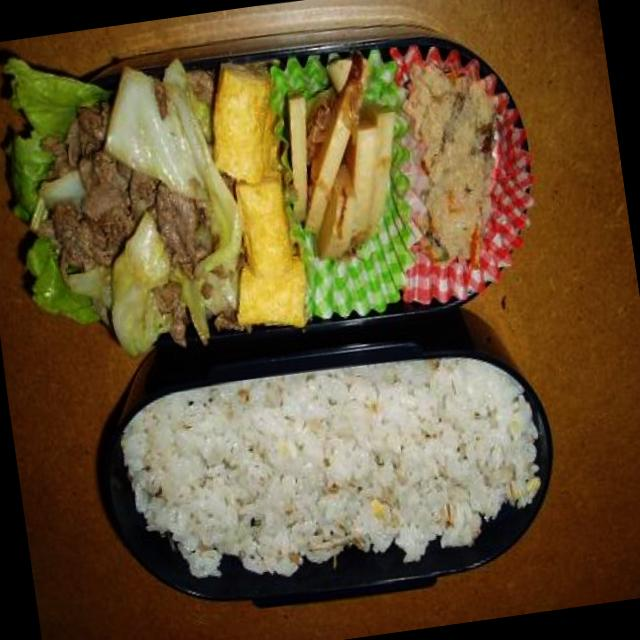Rice: (116, 344, 552, 602)
